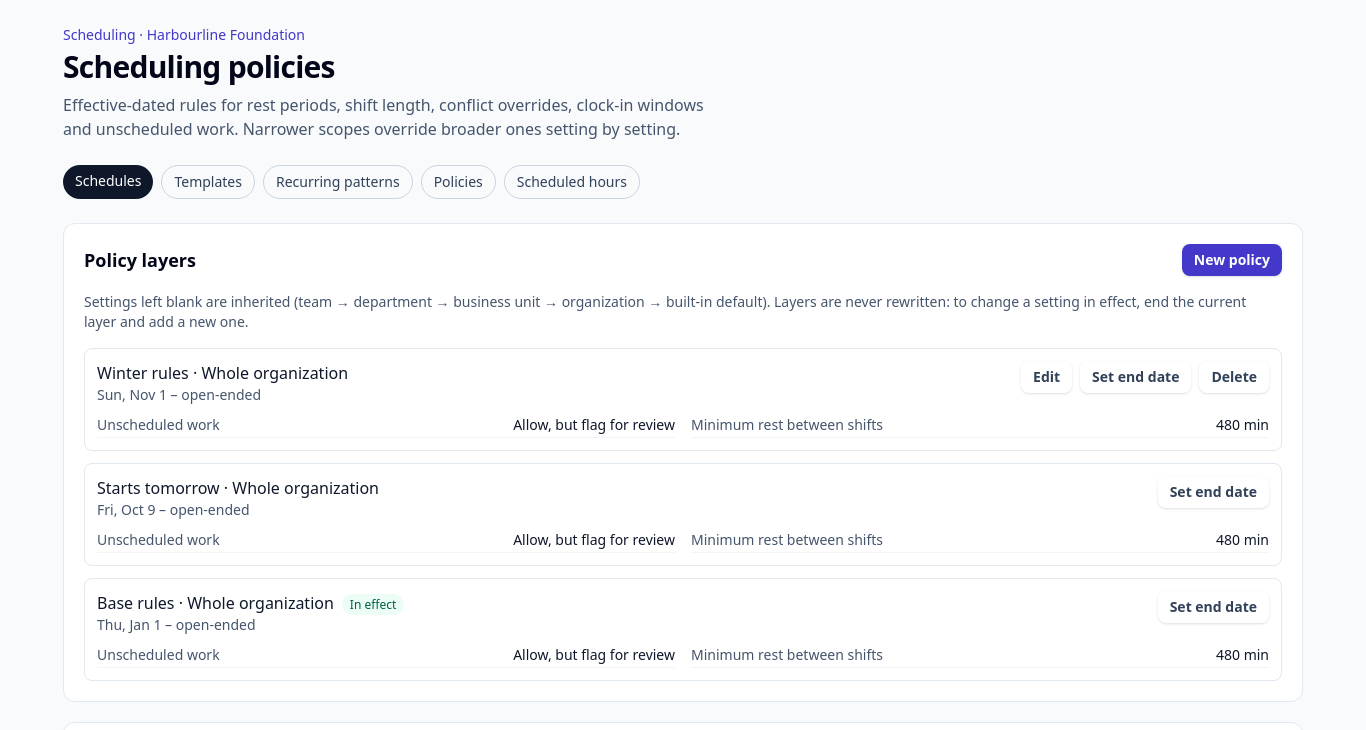
it: SchedulePoliciesPage: editing a policy › keeps the form open and shows the API refusal
Click the button named "Edit Winter rules" at (1047, 377), box x1=1021 y1=361 x2=1072 y2=393
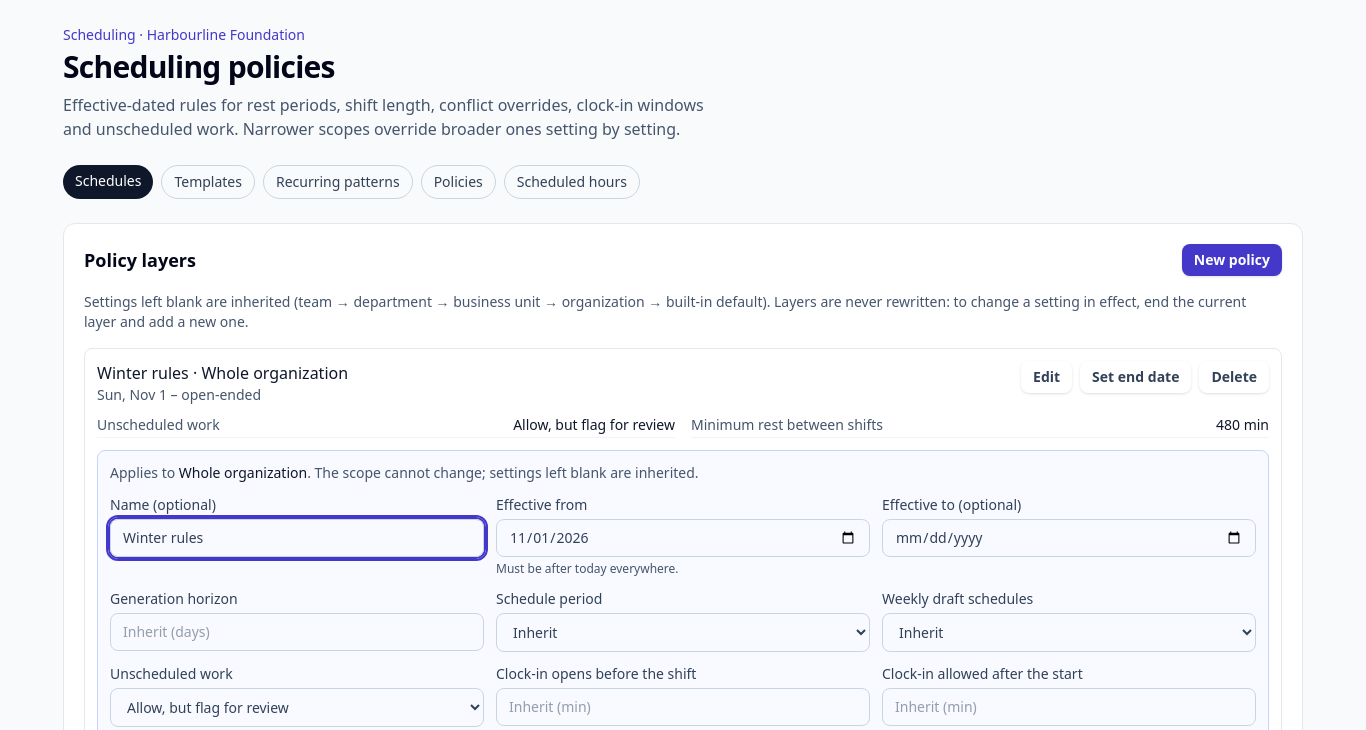
Type "2026-11-15" into the date field labelled "Effective from" at (683, 538), box x1=496 y1=519 x2=870 y2=557
(page scrolled)
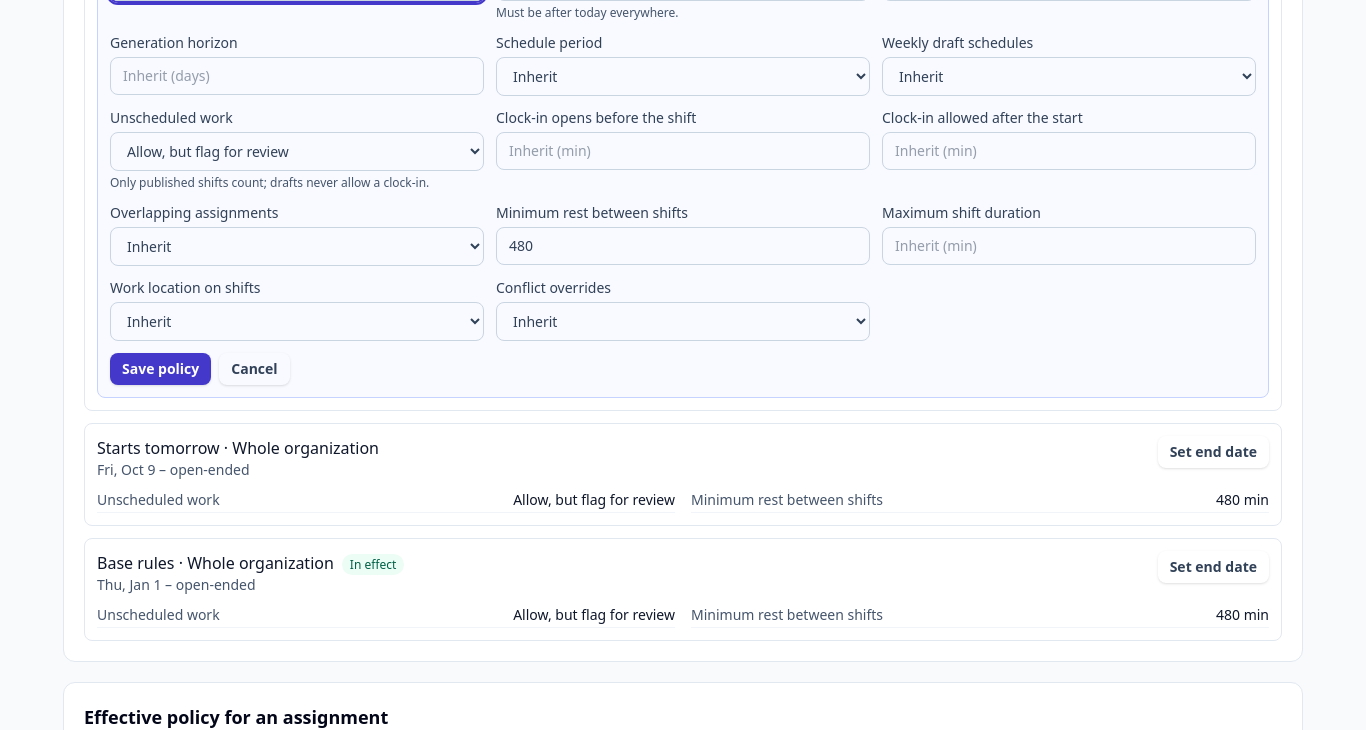
Click the button "Save policy" at (161, 369), box x1=110 y1=353 x2=211 y2=385
(page scrolled)
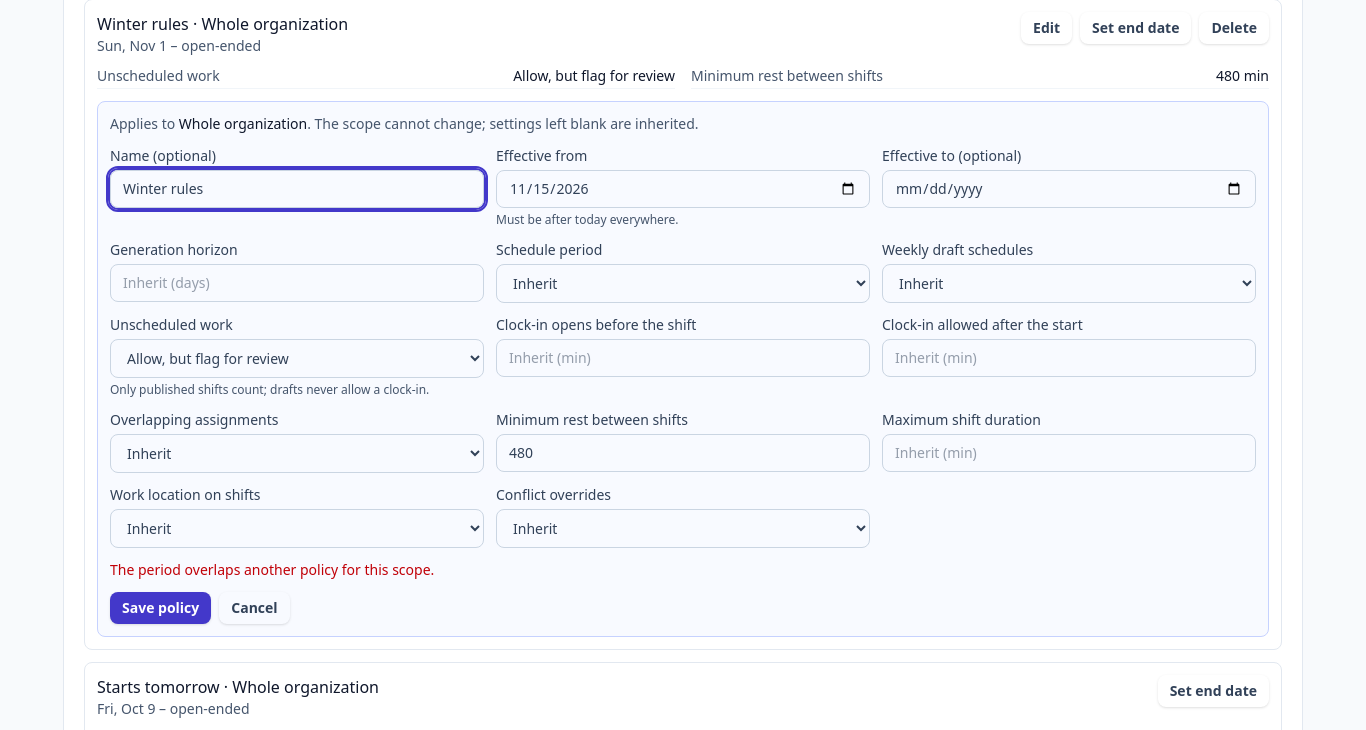
Expected: the form named "Edit Winter rules" is shown
Expected: the text "The period overlaps another policy for this scope." is shown, x1=110 y1=560 x2=434 y2=579
